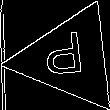P_S: (46, 31, 92, 86)
